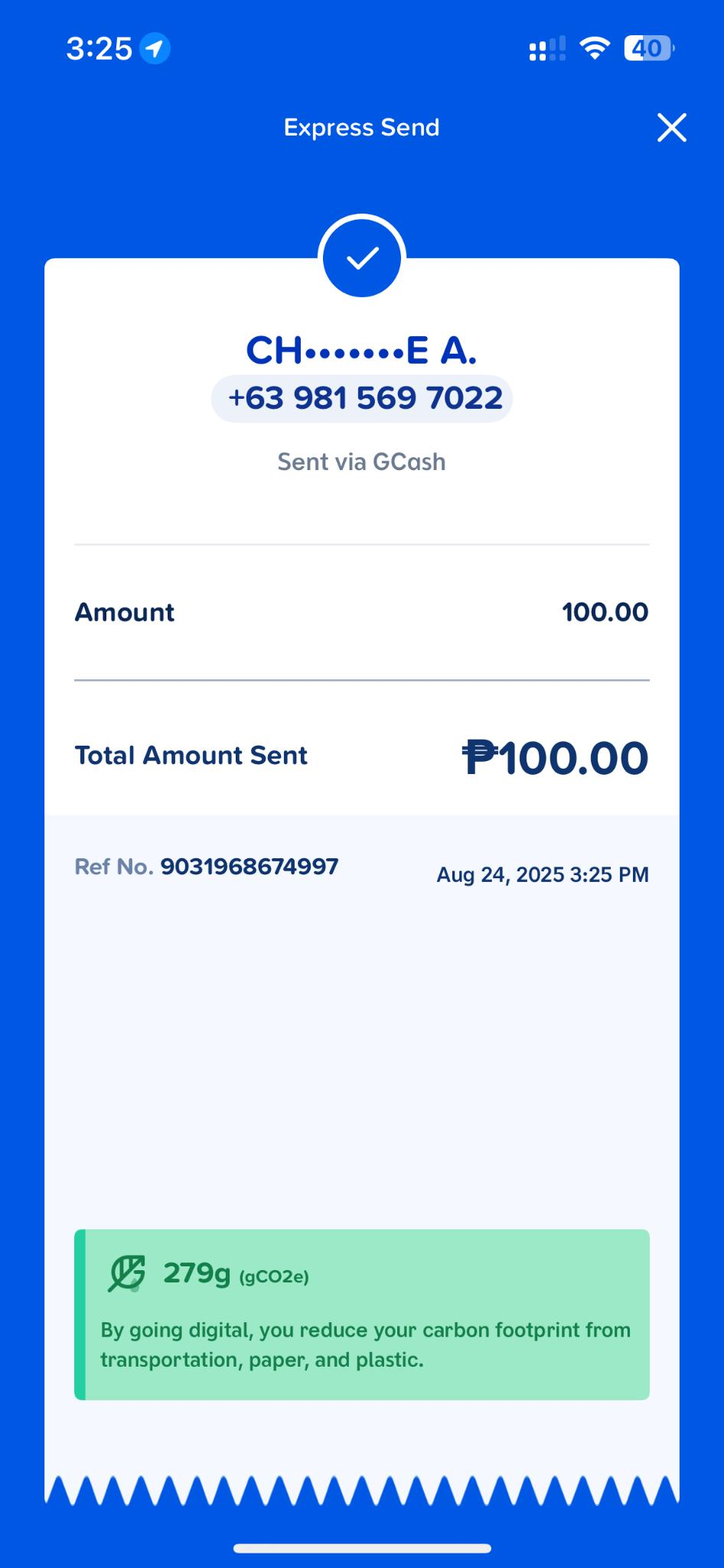Receipt: (3, 90, 724, 1561)
